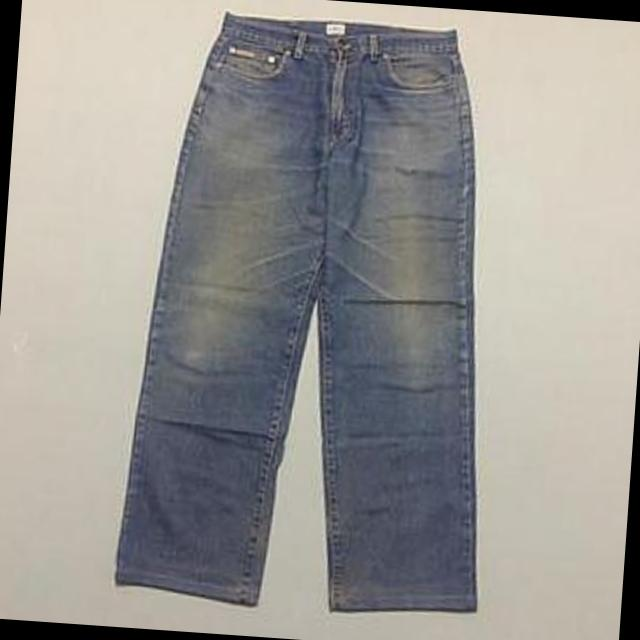TROUSER: (83, 0, 540, 629)
